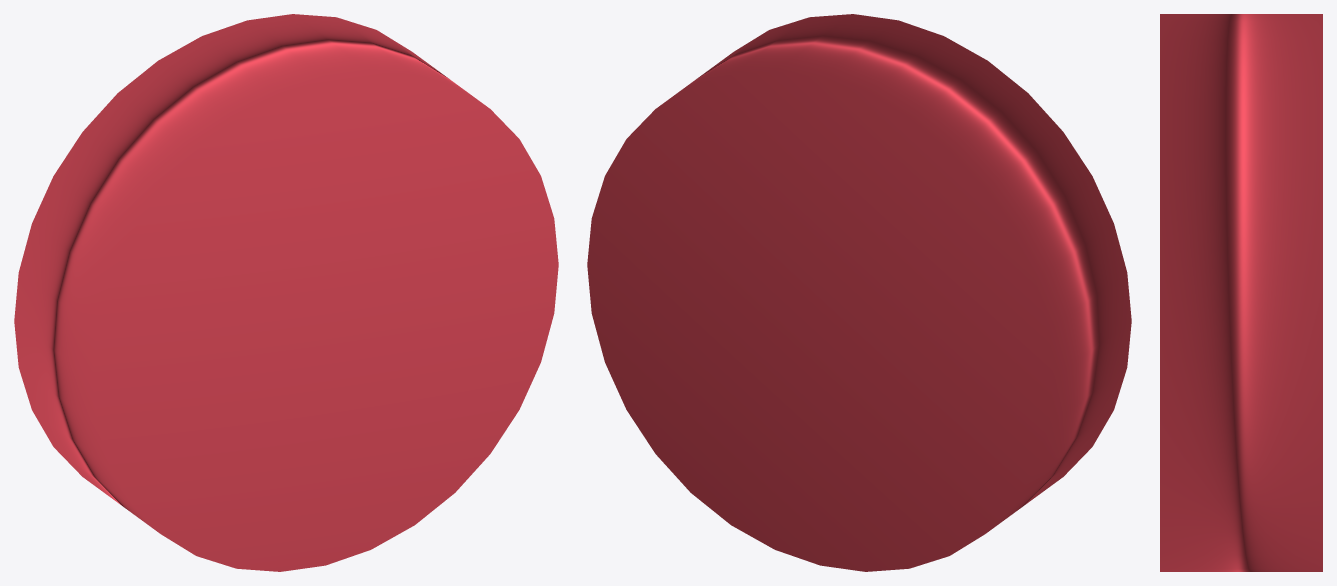
Rendered from CROSSOVER_Rear_Recovery_Shackle_L.glb.
The picture shows the model from 3 angles, left to right: view 1: azimuth 30°, elevation 25°; view 2: azimuth 150°, elevation 25°; view 3: azimuth 270°, elevation 25°; orthographic projection. The views are drawn at different scales.
Visible parts, largest first — view 1: CROSSOVER_Rear_Recovery_Shackle_L; view 2: CROSSOVER_Rear_Recovery_Shackle_L; view 3: CROSSOVER_Rear_Recovery_Shackle_L.
Part boxes in pixels (x1,y1,x2,y2): CROSSOVER_Rear_Recovery_Shackle_L: [14, 14, 558, 571]; CROSSOVER_Rear_Recovery_Shackle_L: [587, 14, 1131, 571]; CROSSOVER_Rear_Recovery_Shackle_L: [1160, 14, 1322, 571].
Bounding box in the file's own units: 0.048 × 0.048 × 0.014.
